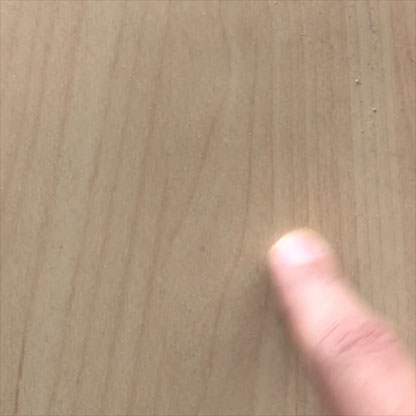fingertip: (259, 218, 354, 280)
